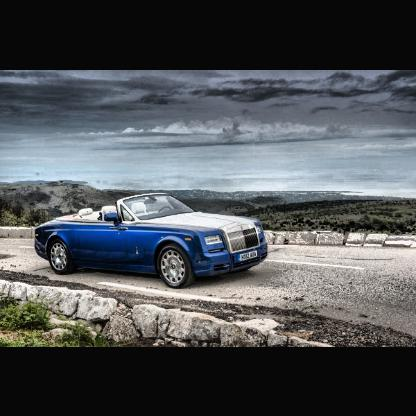Rolls-Royce Phantom Drophead Coupe Convertible 2012: (35, 193, 270, 290)
